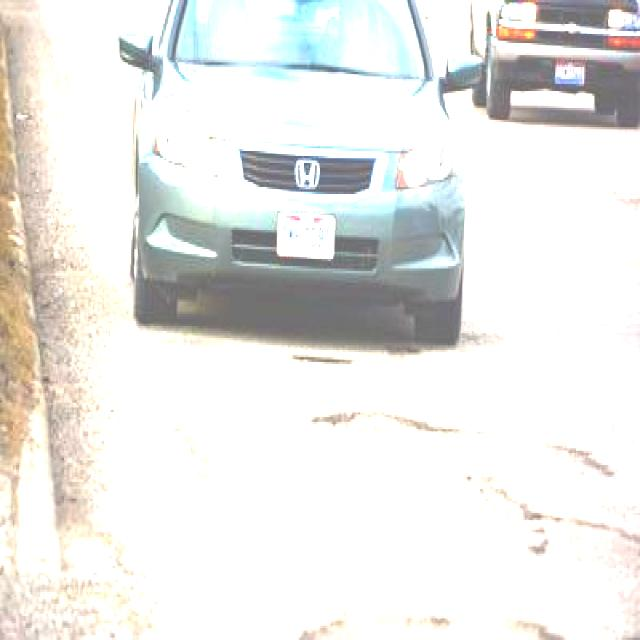Pothole: (279, 347, 640, 640)
